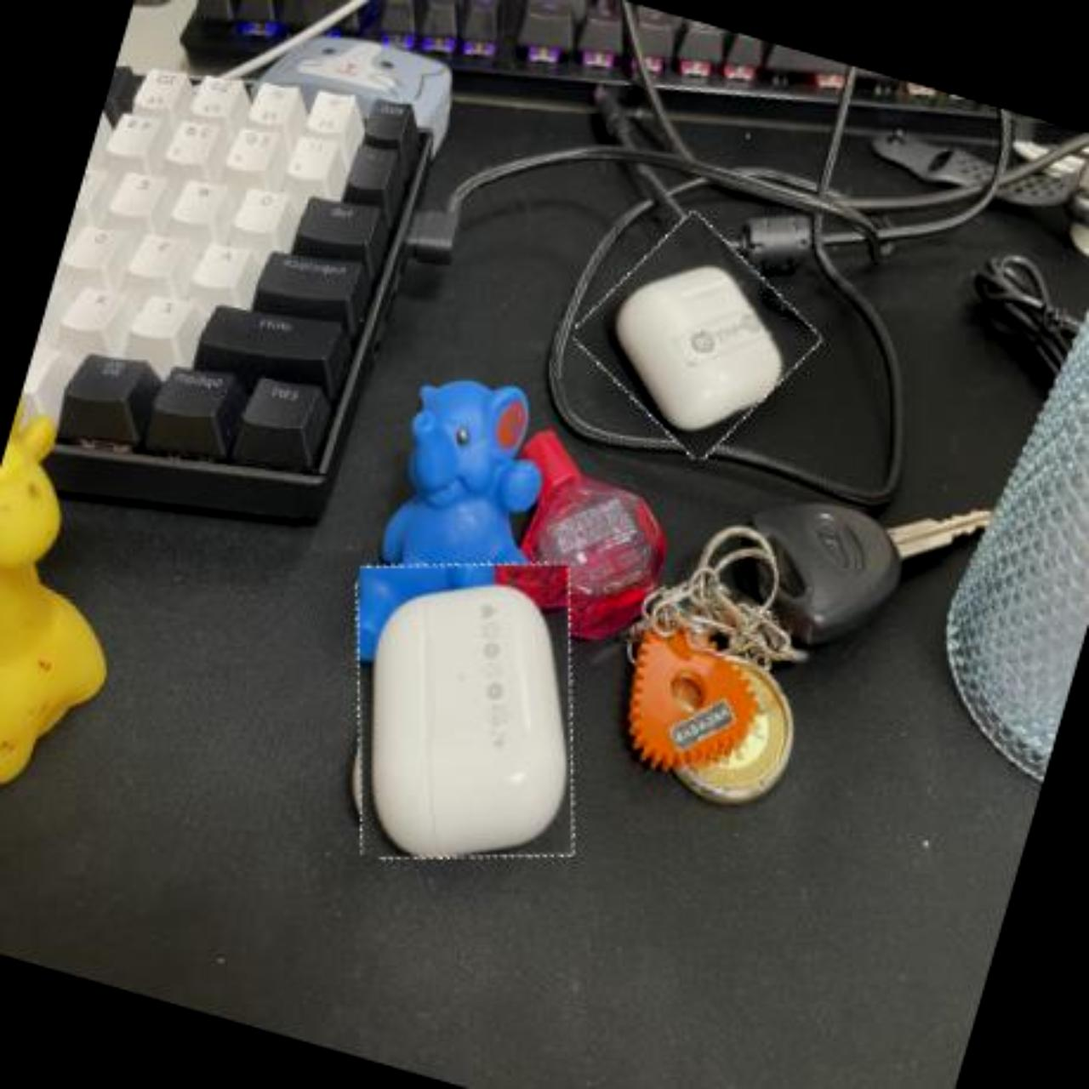AirPods: (304, 525, 628, 896), (565, 209, 827, 467)
